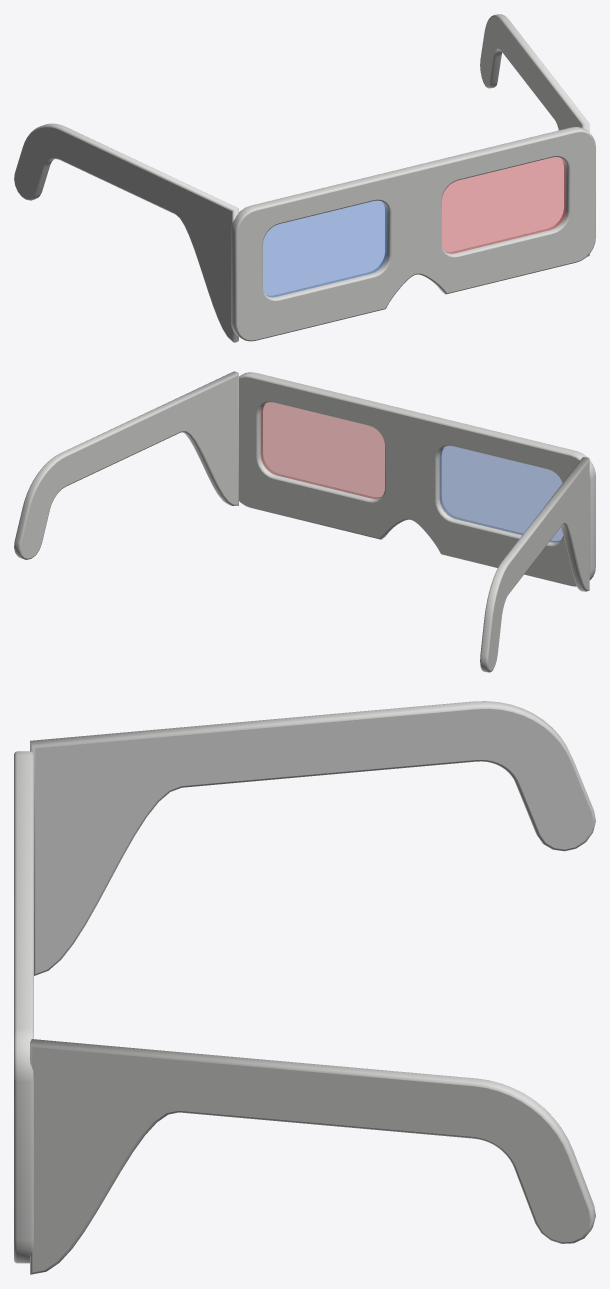
The model's file is ThreeDGlasses.glb.
The picture shows the model from 3 angles, top to bottom: view 1: azimuth 30°, elevation 25°; view 2: azimuth 150°, elevation 25°; view 3: azimuth 270°, elevation 25°; orthographic projection. The views are drawn at different scales.
Visible parts, largest first — view 1: Frame, LensRed, LensBlue; view 2: Frame, LensRed, LensBlue; view 3: Frame.
Part boxes in pixels (x1=…): Frame: x1=14, y1=14, x2=595, y2=342; LensRed: x1=441, y1=157, x2=565, y2=253; LensBlue: x1=263, y1=200, x2=387, y2=297; Frame: x1=14, y1=371, x2=595, y2=672; LensRed: x1=260, y1=402, x2=384, y2=498; LensBlue: x1=439, y1=446, x2=563, y2=542; Frame: x1=14, y1=701, x2=595, y2=1274.
Bounding box in the file's own units: 0.768 × 0.2059 × 0.4677.
